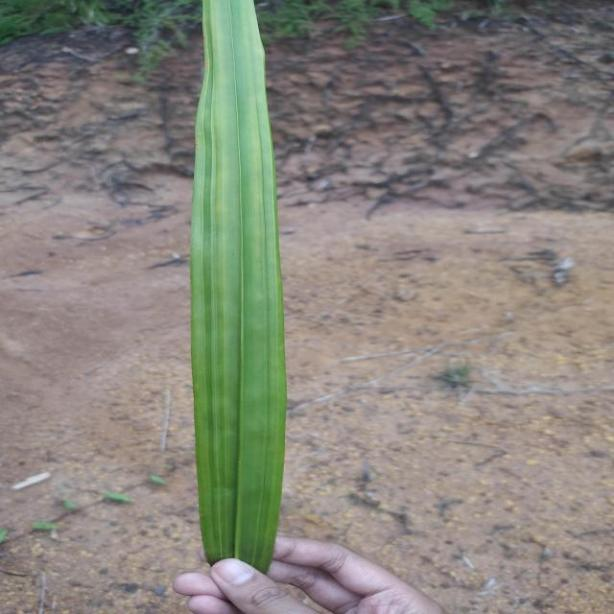nitrogen: (187, 0, 281, 562)
